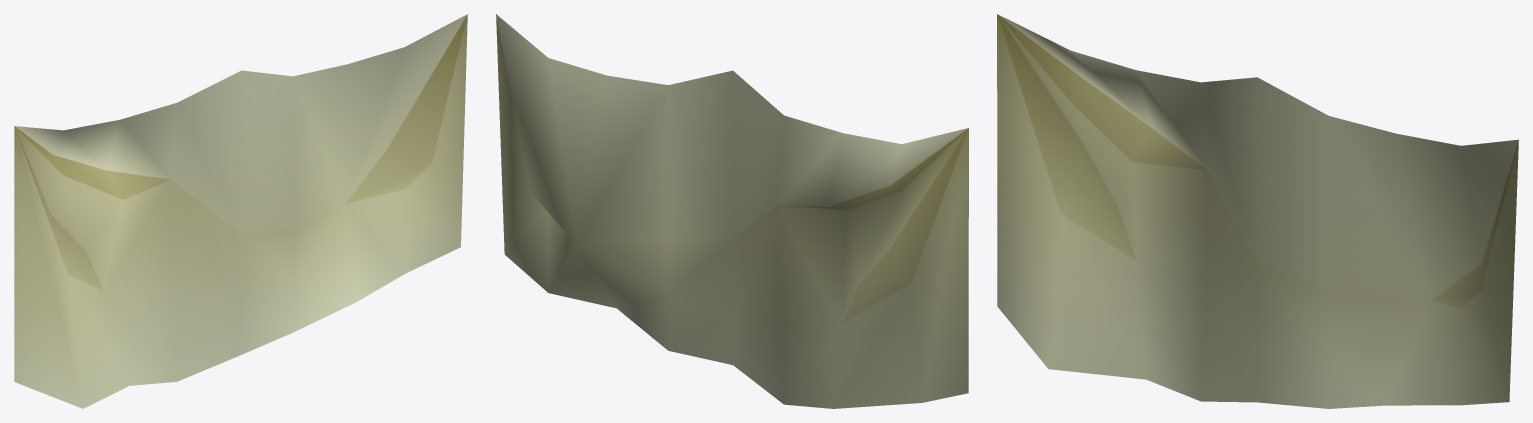
The model's file is SM_FabricLarge_03.fbx.
The picture shows the model from 3 angles, left to right: view 1: azimuth 30°, elevation 25°; view 2: azimuth 150°, elevation 25°; view 3: azimuth 330°, elevation 25°; orthographic projection. The views are drawn at different scales.
Visible parts, largest first — view 1: SM_FabricLarge_03; view 2: SM_FabricLarge_03; view 3: SM_FabricLarge_03.
Part boxes in pixels (x1=…): SM_FabricLarge_03: x1=14, y1=14, x2=467, y2=408; SM_FabricLarge_03: x1=496, y1=14, x2=968, y2=408; SM_FabricLarge_03: x1=997, y1=14, x2=1518, y2=408.
Size of the model in its own units: 3 by 1.91 by 0.4299.
